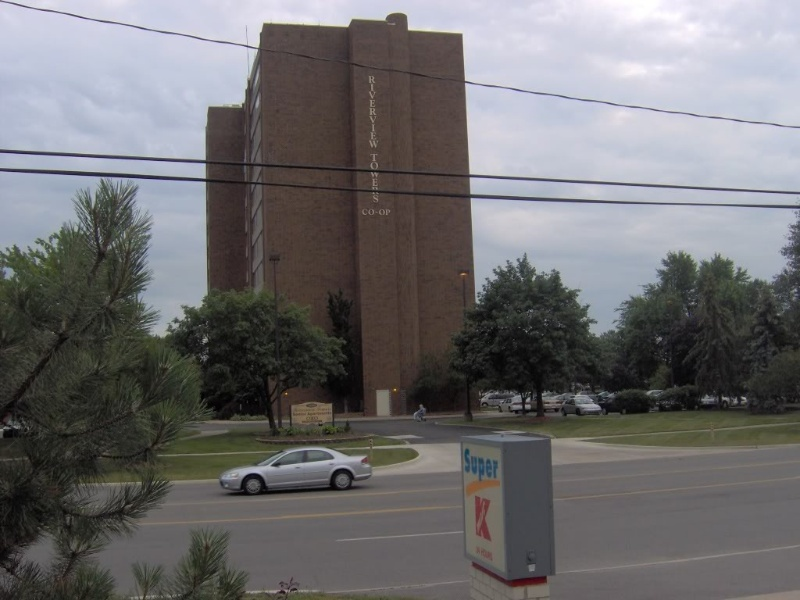text: (369, 76, 379, 149), (370, 154, 384, 204), (481, 495, 493, 542), (465, 448, 480, 483), (481, 448, 496, 483), (305, 408, 320, 424), (475, 495, 480, 542), (292, 408, 304, 424), (321, 408, 333, 424), (481, 545, 493, 561), (369, 208, 384, 216), (473, 545, 480, 561), (385, 208, 392, 216), (362, 208, 368, 216), (497, 448, 498, 483)
